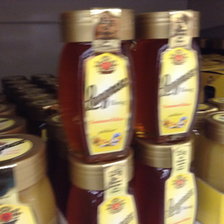honey: (57, 7, 138, 159), (139, 10, 202, 141), (139, 138, 202, 224)
